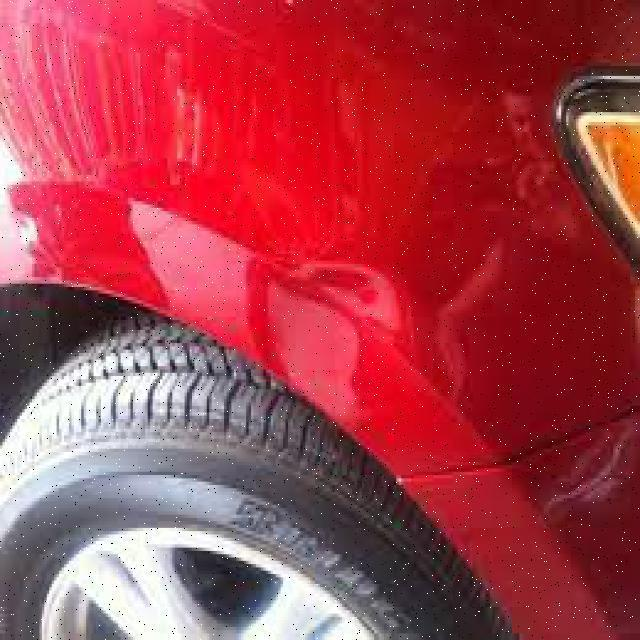fender-dent: (0, 3, 576, 494)
